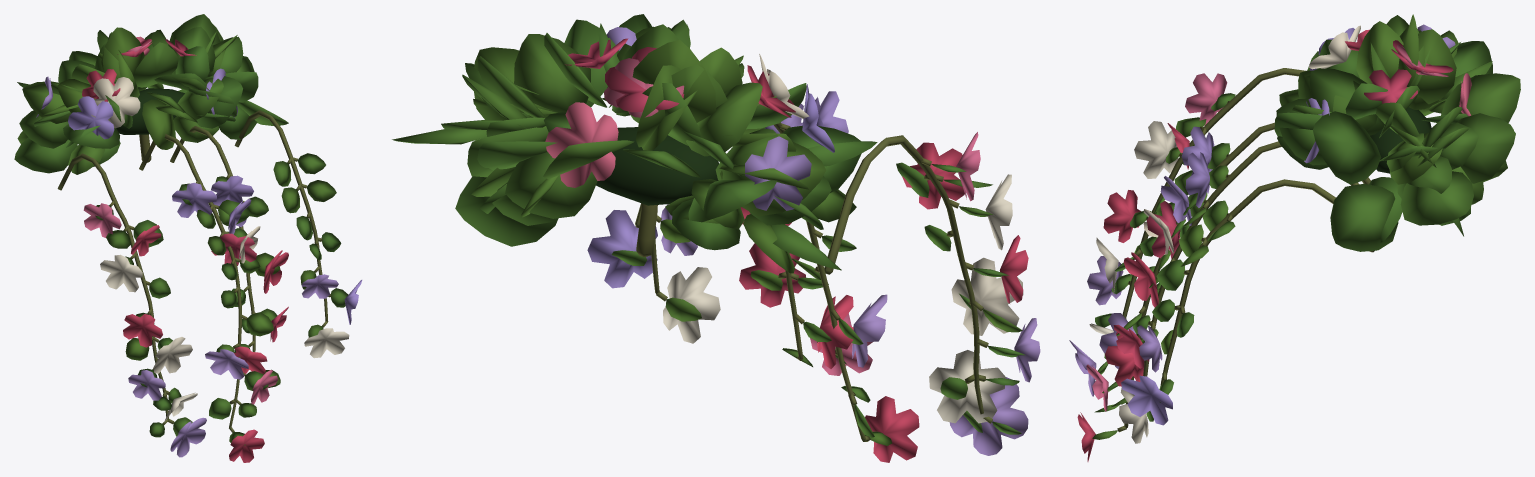
File: box_petunia.glb
3 renders of one model, left to right at view 1: azimuth 30°, elevation 25°; view 2: azimuth 150°, elevation 25°; view 3: azimuth 270°, elevation 25°, orthographic. The views are drawn at different scales.
Parts seen in each view (by area): view 1: Sammel Pflanze, Sammel Putz, Sammel Blatt; view 2: Sammel Pflanze, Sammel Putz, Sammel Blatt; view 3: Sammel Pflanze, Sammel Putz, Sammel Blatt.
Boxes of the visible parts, x1,y1,x2,y2 form: Sammel Pflanze: [14, 14, 362, 462]; Sammel Putz: [57, 110, 331, 432]; Sammel Blatt: [116, 88, 184, 134]; Sammel Pflanze: [392, 14, 1040, 462]; Sammel Putz: [635, 103, 992, 441]; Sammel Blatt: [596, 127, 718, 205]; Sammel Pflanze: [1069, 14, 1520, 461]; Sammel Putz: [1117, 68, 1374, 432]; Sammel Blatt: [1370, 107, 1431, 173].
Bounding box in the file's own units: 0.3623 × 0.4606 × 0.424.
